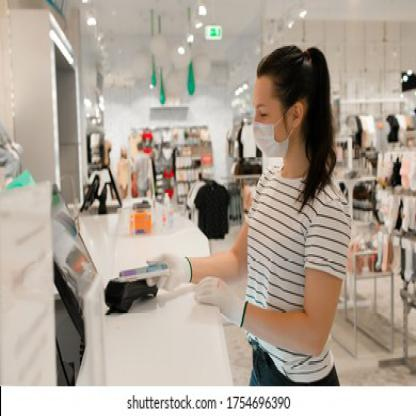with_gloves: (196, 278, 250, 327), (145, 253, 193, 291)
